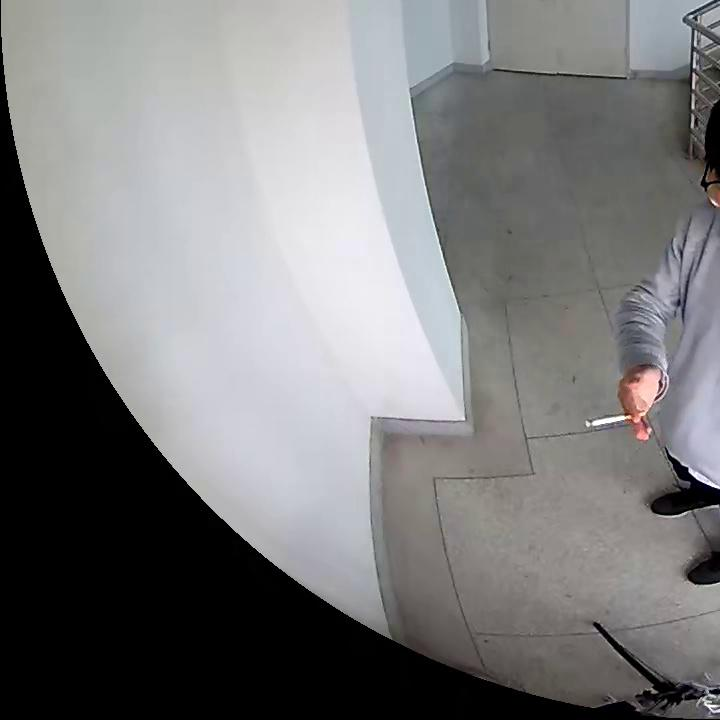handsmoke: (585, 369, 661, 441)
